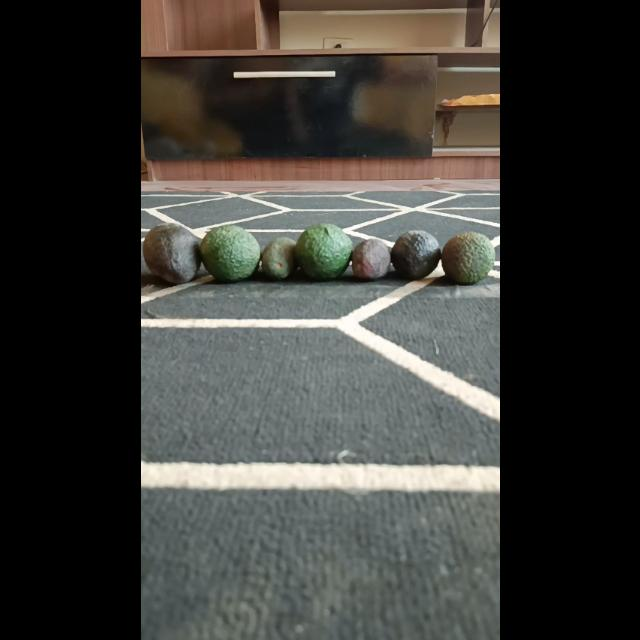Primera: (142, 222, 202, 284), (199, 224, 261, 282), (294, 222, 354, 280)
Segunda: (440, 232, 494, 286), (391, 230, 442, 280)
Tercera: (351, 238, 391, 280), (261, 237, 297, 280)
